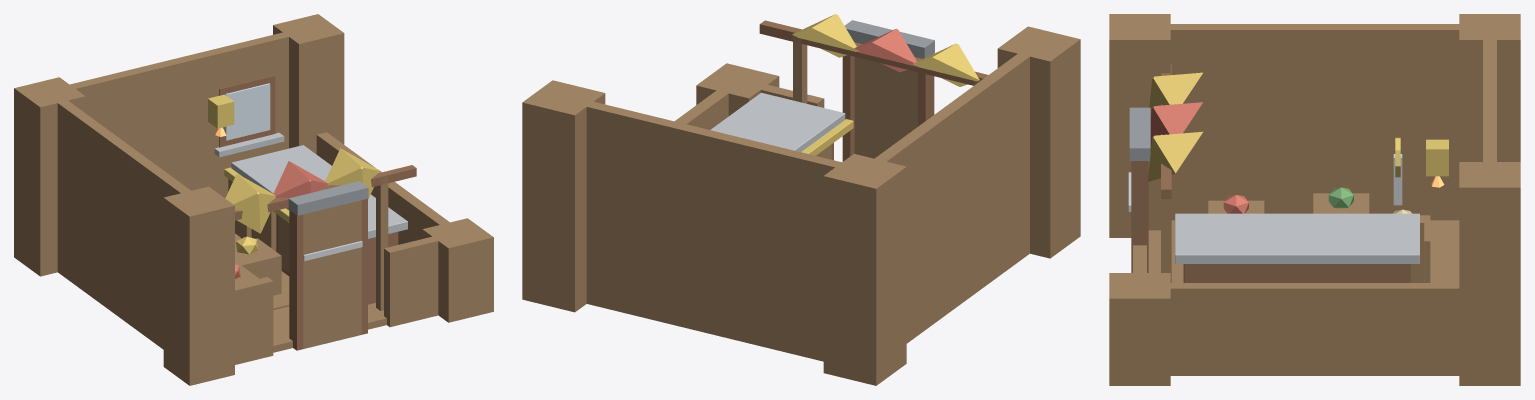
The model's file is market_stall_interior.glb.
The picture shows the model from 3 angles, left to right: view 1: azimuth 30°, elevation 25°; view 2: azimuth 150°, elevation 25°; view 3: azimuth 270°, elevation 25°; orthographic projection. The views are drawn at different scales.
Parts seen in each view (by area): view 1: floor_slab.002; view 2: floor_slab.002; view 3: floor_slab.002.
Boxes of the visible parts, <box> form: floor_slab.002: <box>14,14,493,385</box>; floor_slab.002: <box>522,14,1080,385</box>; floor_slab.002: <box>1109,14,1520,385</box>.
Bounding box in the file's own units: 4.7 × 2.5 × 4.7.
